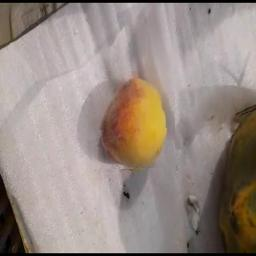Peach Fresh: (88, 72, 176, 171)
